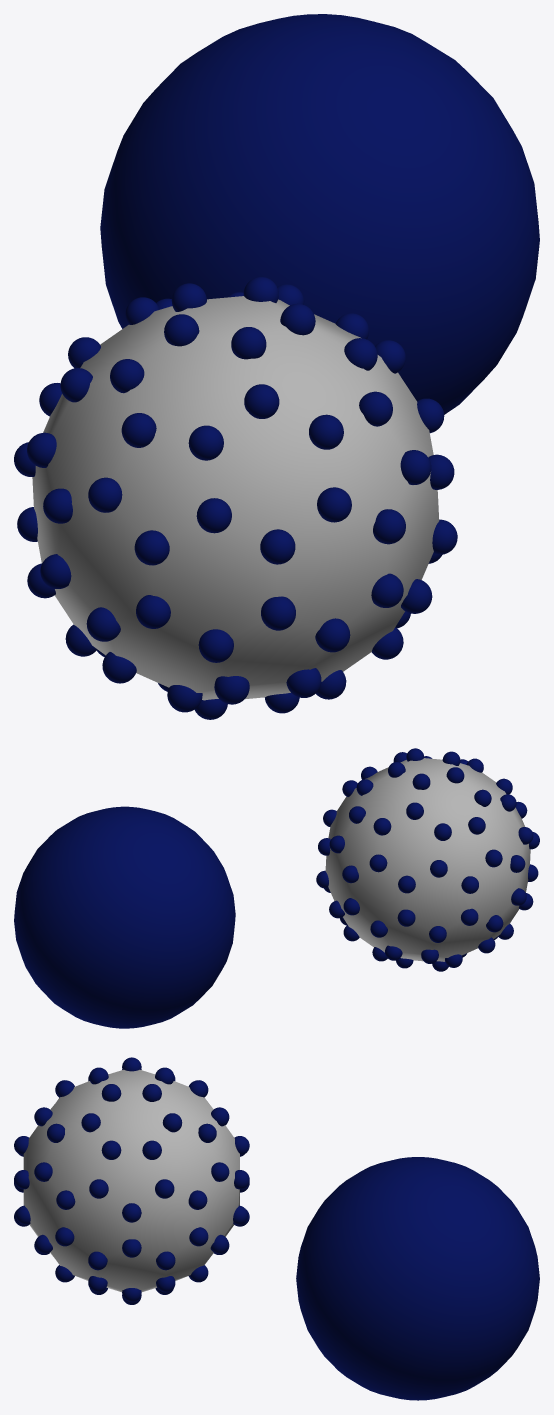
Rendered from Buckyball.gltf.
The picture shows the model from 3 angles, top to bottom: view 1: azimuth 30°, elevation 25°; view 2: azimuth 150°, elevation 25°; view 3: azimuth 270°, elevation 25°; orthographic projection. The views are drawn at different scales.
Parts seen in each view (by area): view 1: Sphere (×30), DualMesh; view 2: Sphere, DualMesh; view 3: Sphere, DualMesh.
Boxes of the visible parts, box(x1,y1,x2,y2) form: Sphere (×30): box(27, 14, 539, 704); DualMesh: box(32, 296, 439, 700); Sphere: box(14, 806, 235, 1028); DualMesh: box(325, 758, 530, 961); Sphere: box(296, 1157, 539, 1400); DualMesh: box(23, 1069, 239, 1292).
Size of the model in its own units: 3.81 by 2.02 by 4.31.
